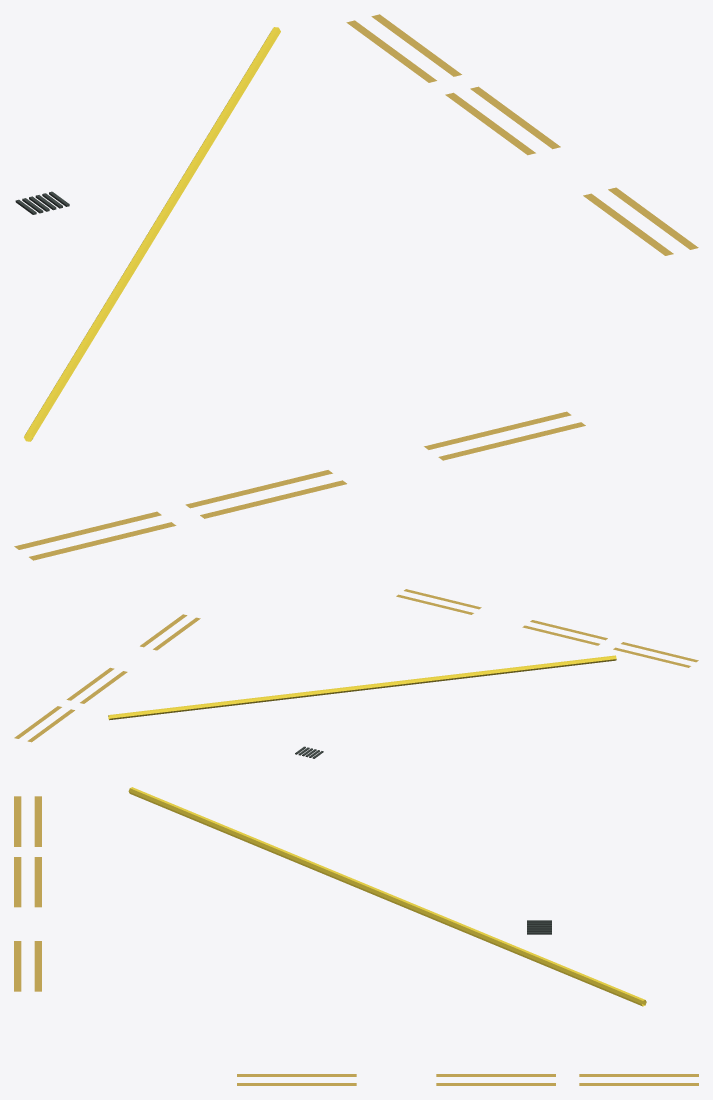
The picture shows the model from 3 angles, top to bottom: view 1: azimuth 30°, elevation 25°; view 2: azimuth 150°, elevation 25°; view 3: azimuth 270°, elevation 25°; orthographic projection. The views are drawn at different scales.
Parts seen in each view (by area): view 1: Fitted street and landscape details, RD37L | line, light and sprite surfaces; view 2: Fitted street and landscape details, RD37L | line, light and sprite surfaces; view 3: Fitted street and landscape details, RD37L | line, light and sprite surfaces.
Boxes of the visible parts, x1,y1,x2,y2 form: Fitted street and landscape details: (14,14,698,560); RD37L | line, light and sprite surfaces: (24,27,280,441); Fitted street and landscape details: (14,589,698,758); RD37L | line, light and sprite surfaces: (108,655,616,720); Fitted street and landscape details: (14,796,698,1085); RD37L | line, light and sprite surfaces: (128,787,646,1006).
Size of what is drawn, in the model's own units: 7.9 by 0.4551 by 7.9.
